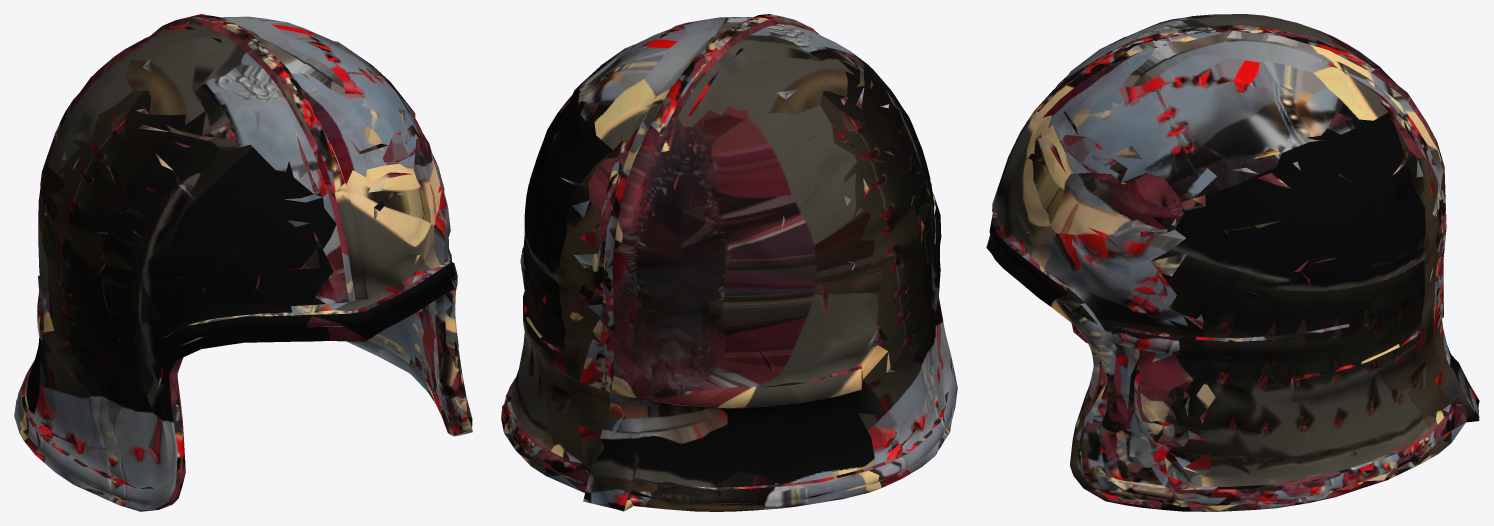
File: guofengtoukui3.fbx
3 renders of one model, left to right at view 1: azimuth 30°, elevation 25°; view 2: azimuth 150°, elevation 25°; view 3: azimuth 270°, elevation 25°, orthographic.
Visible parts, largest first — view 1: Mesh_0; view 2: Mesh_0; view 3: Mesh_0.
Boxes of the visible parts, x1=… form: Mesh_0: x1=14, y1=14, x2=472, y2=511; Mesh_0: x1=501, y1=14, x2=957, y2=511; Mesh_0: x1=986, y1=14, x2=1479, y2=511.
Bounding box in the file's own units: 0.6464 × 0.637 × 0.7182.
